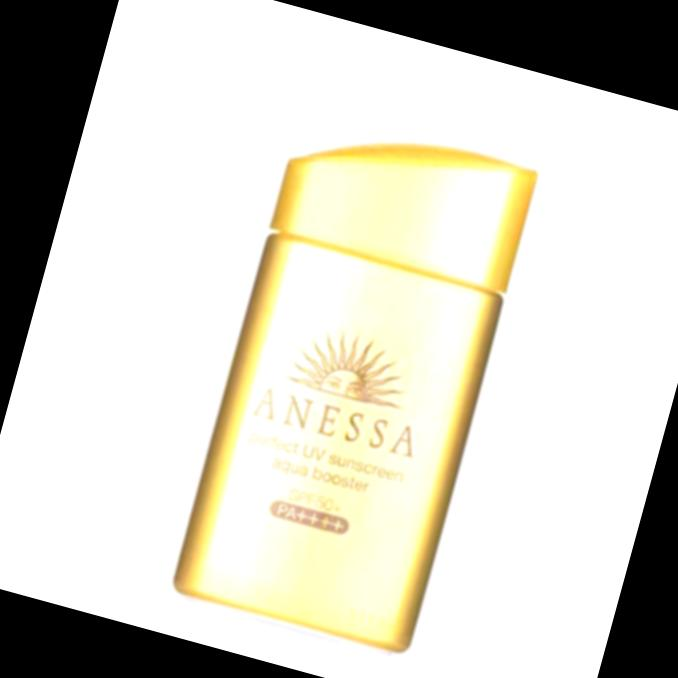cosmetic: (165, 102, 542, 653)
